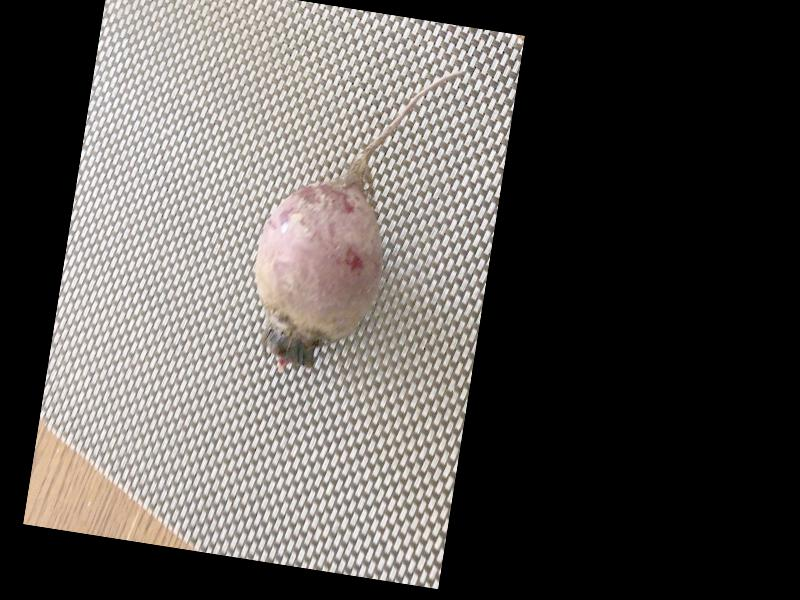Beet: (240, 42, 465, 393)
